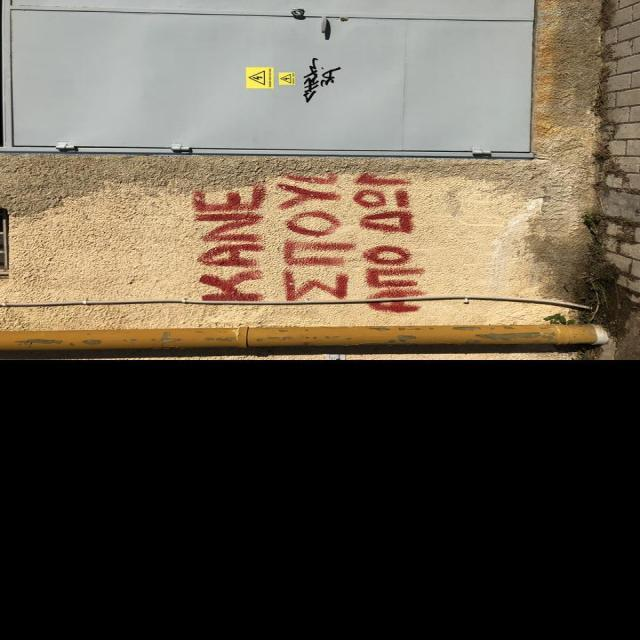nonspitting: (196, 168, 424, 314), (304, 58, 342, 104)
